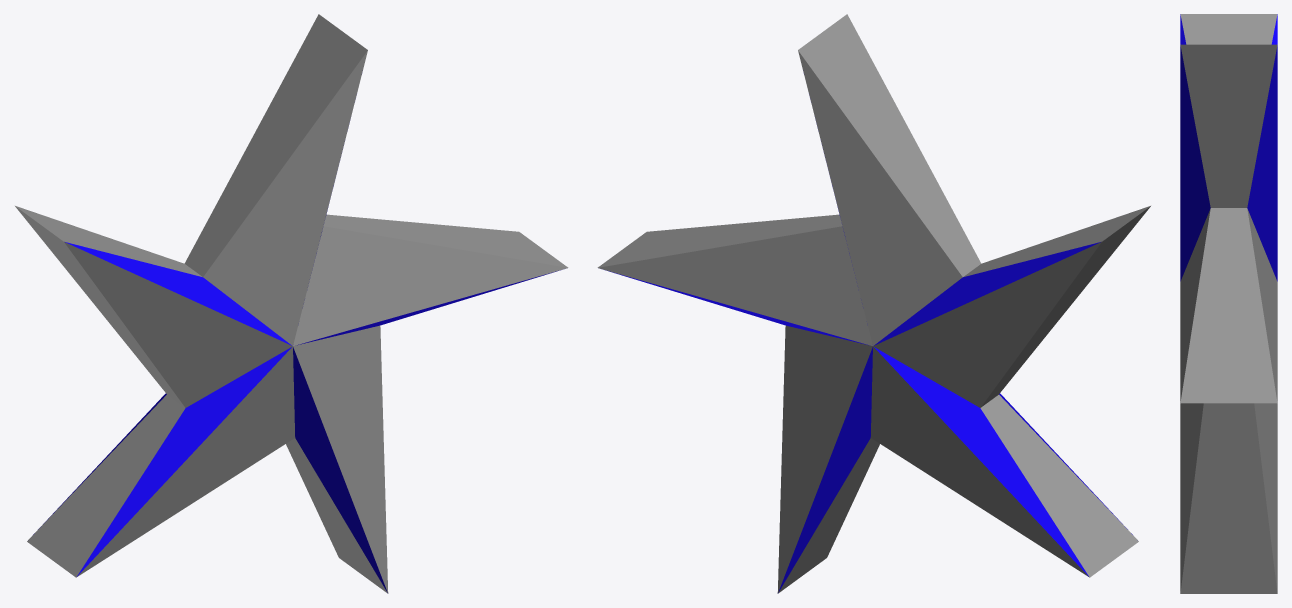
File: Powerup.FBX
3 views of the same model, side by side, from view 1: azimuth 30°, elevation 25°; view 2: azimuth 150°, elevation 25°; view 3: azimuth 270°, elevation 25° (orthographic).
Parts seen in each view (by area): view 1: Gengon001; view 2: Gengon001; view 3: Gengon001.
Part boxes in pixels (box(x1,y1,x2,y2)): Gengon001: box(15, 14, 568, 593); Gengon001: box(597, 14, 1150, 593); Gengon001: box(1180, 14, 1277, 593).
Size of the model in its own units: 89.09 by 92.52 by 15.08.
